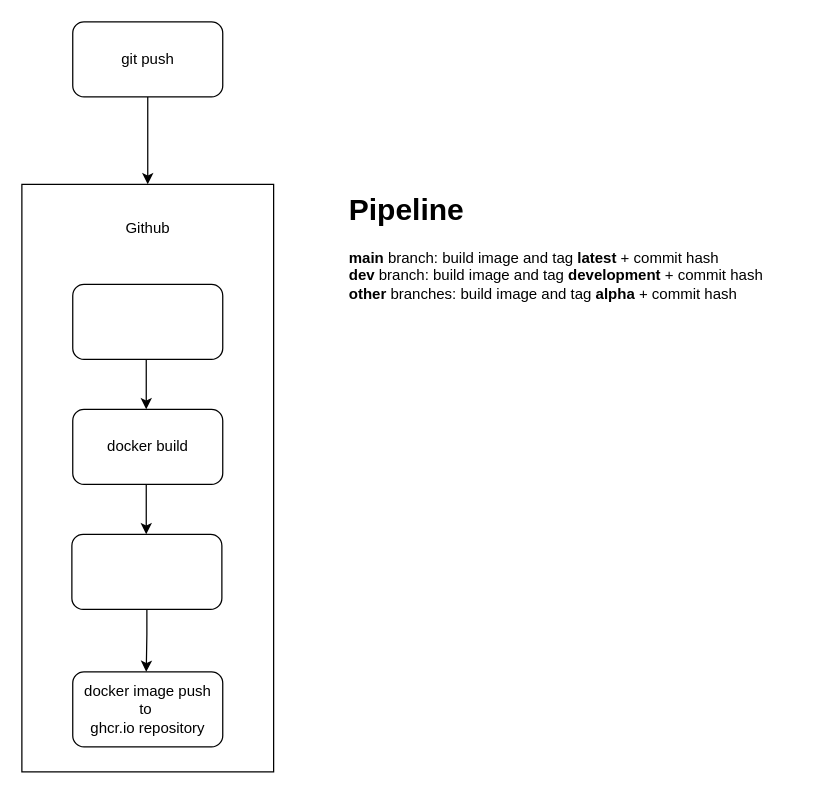
The diagram is 819 pixels wide and 794 high, and some of its shapes have lost their labels. Here are the shapes that lost their labels. From the top down, the centre of each, then its label:
At pixel 147 321: "workflow triggered".
At pixel 146 571: "docker tag".
